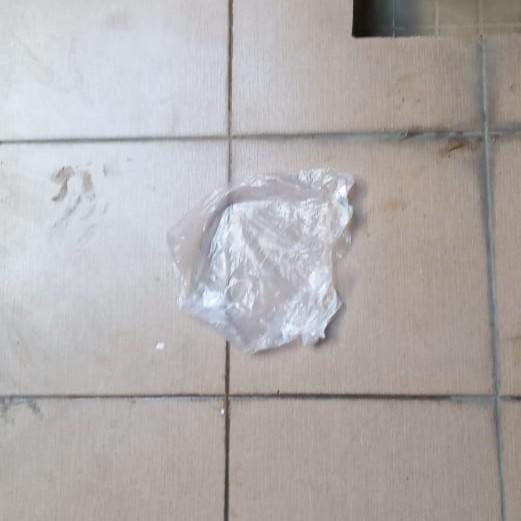Plastik: (165, 168, 356, 356)
